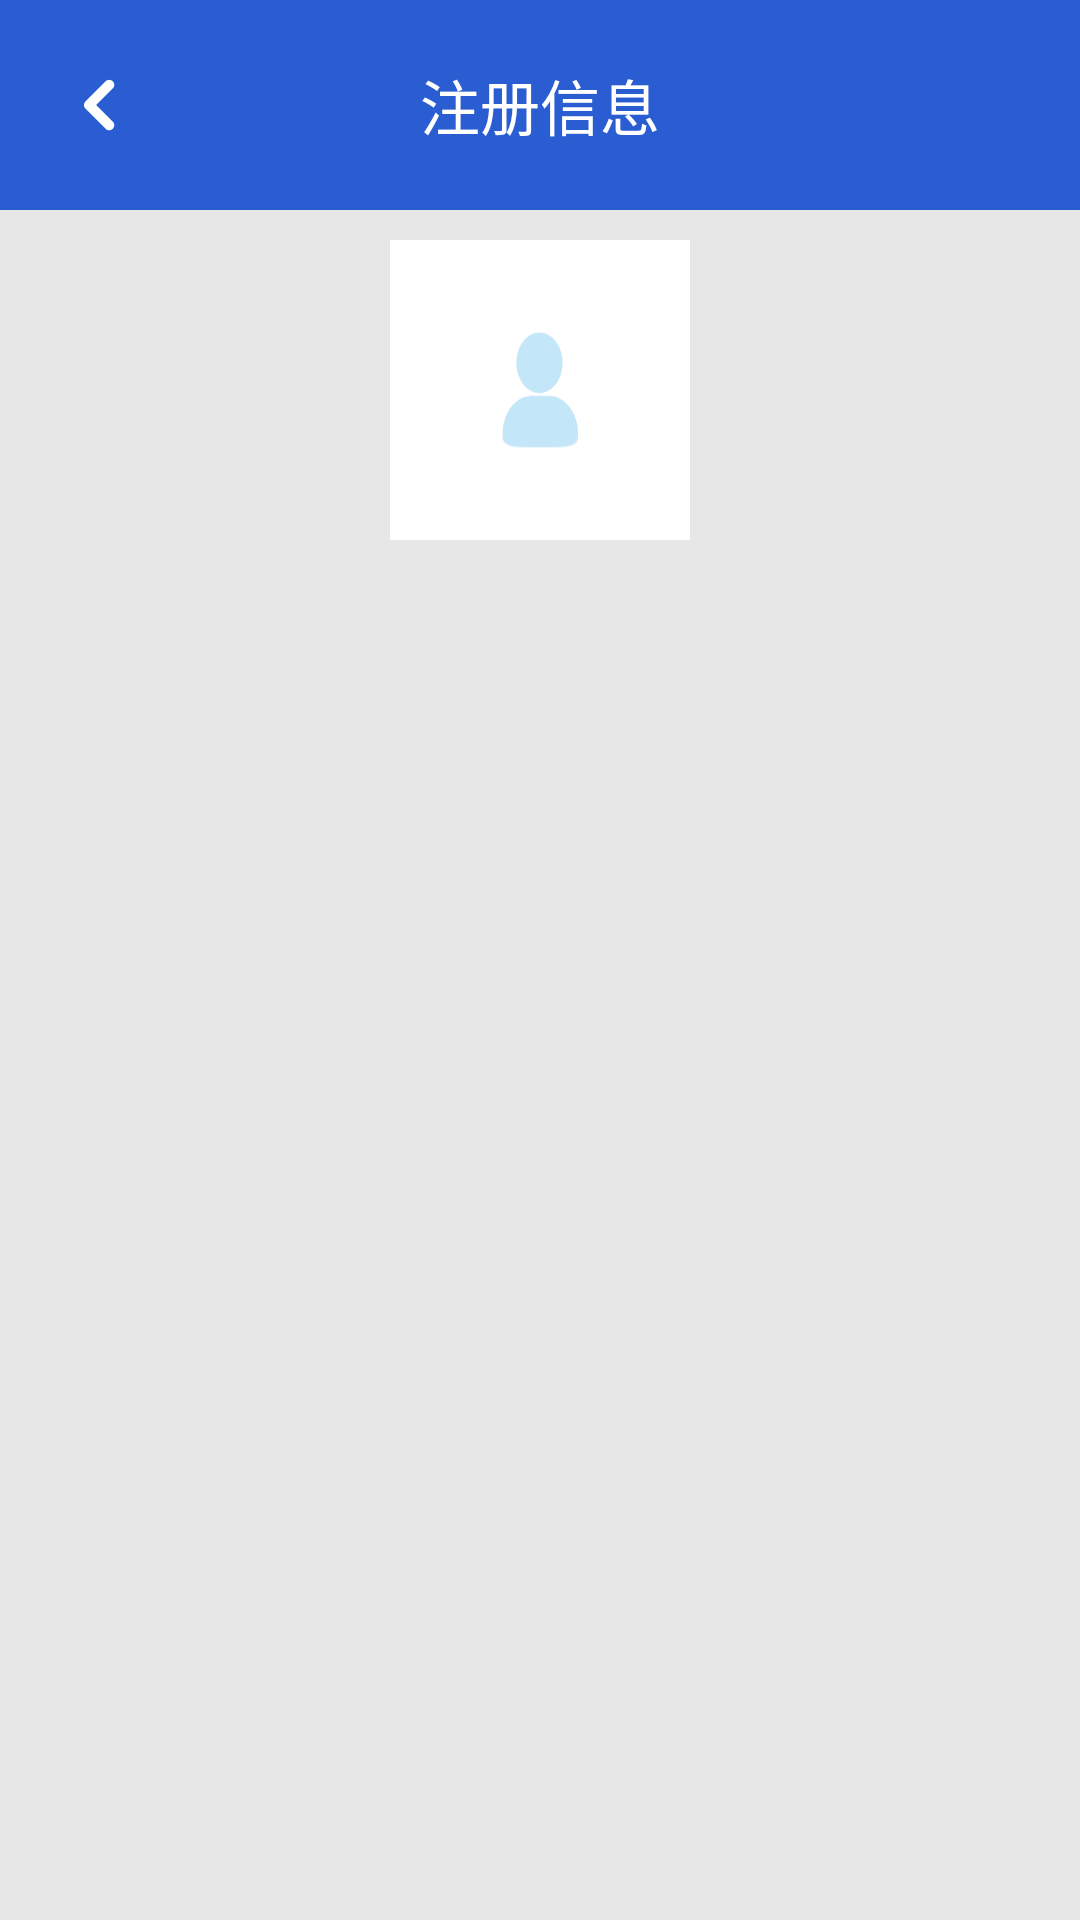

Point at icon controls on the screen. Image size 1080x1920, points as (x=x, y=y).
back: (x=99, y=105)
head: (x=540, y=390)
